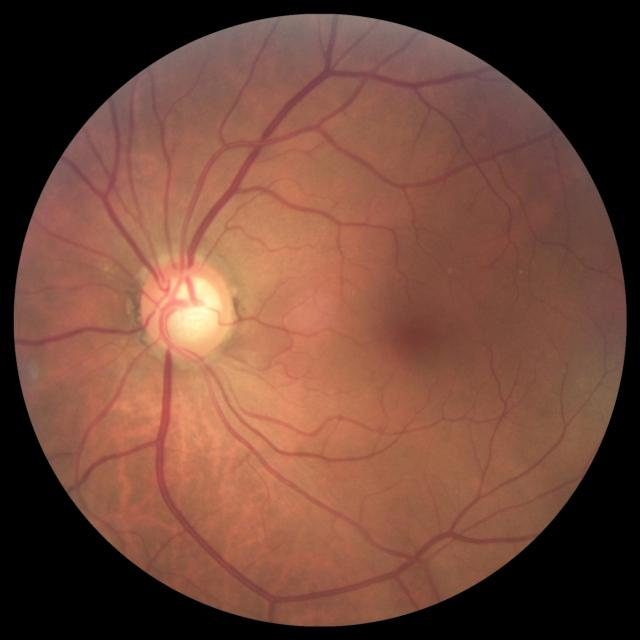OC: (140, 258, 232, 358)
OD: (151, 275, 223, 345)
